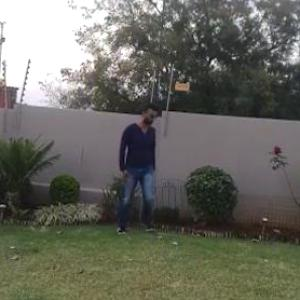follow: (114, 102, 158, 238)
